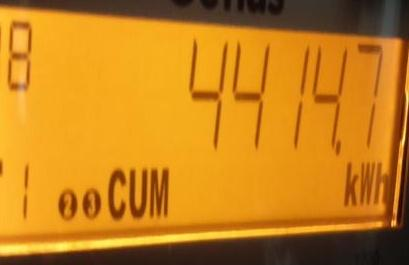.: (340, 159, 395, 207)
0: (333, 139, 344, 158)
2: (291, 40, 310, 156)
5: (185, 37, 232, 156), (230, 38, 277, 154), (307, 44, 350, 153)
8: (354, 40, 385, 154)
